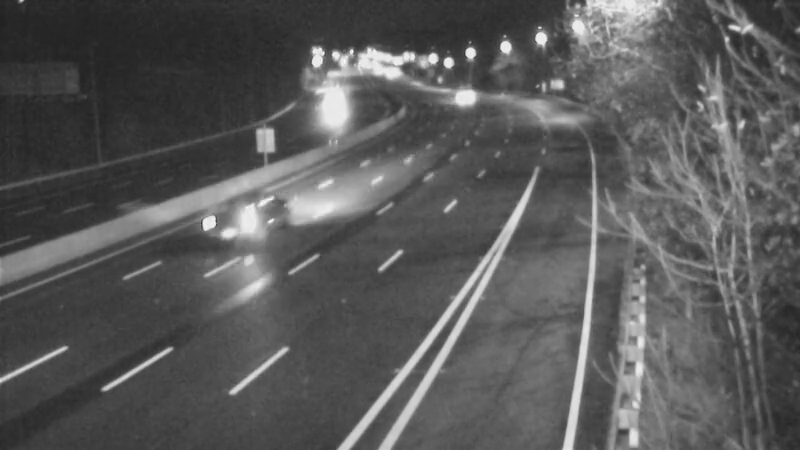vehicle: (188, 189, 268, 269), (442, 72, 492, 122), (301, 81, 351, 131)
